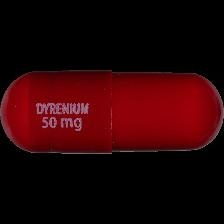68151-1494: (0, 0, 224, 224)
